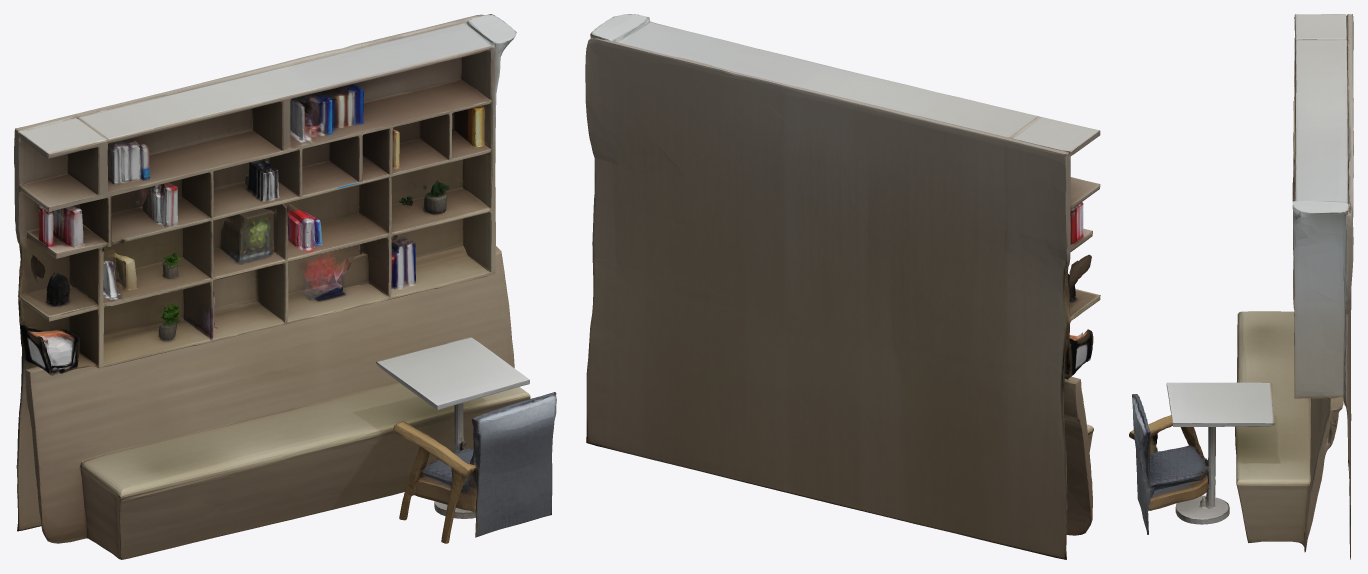
3 renders of one model, left to right at view 1: azimuth 30°, elevation 25°; view 2: azimuth 150°, elevation 25°; view 3: azimuth 270°, elevation 25°, orthographic. The views are drawn at different scales.
Parts seen in each view (by area): view 1: geometry_0; view 2: geometry_0; view 3: geometry_0.
Boxes of the visible parts, x1,y1,x2,y2 form: geometry_0: [14, 14, 556, 559]; geometry_0: [585, 14, 1100, 559]; geometry_0: [1129, 14, 1353, 559].
Size of the model in its own units: 1 by 0.8122 by 0.4754.
1 material, 1 textured.
